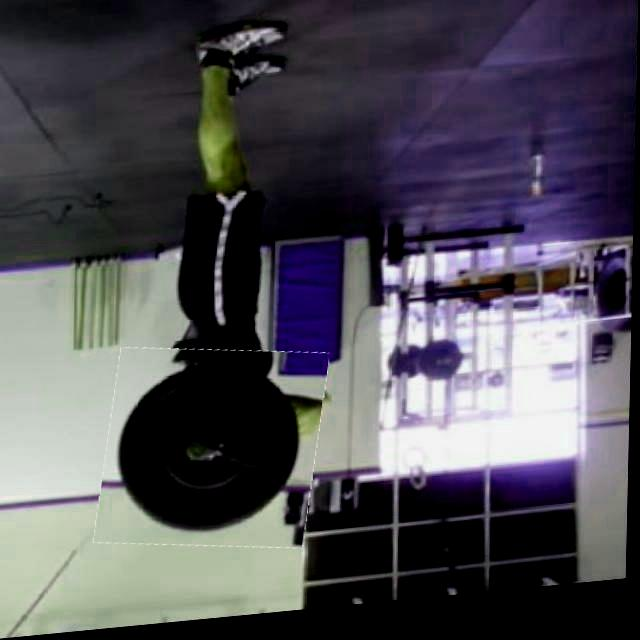barbell: (101, 342, 327, 565)
